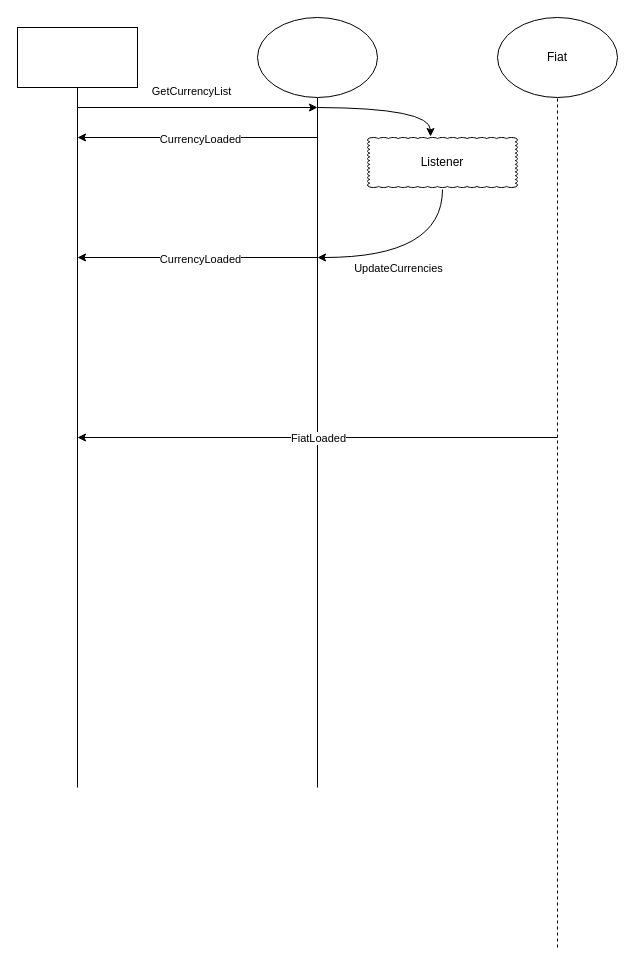
This 635x966 diagram has some shape labels left out. Here are the shapes that lost their labels. From the top down, the box of each, then its label:
(16, 26, 138, 88): CurrencyScreen
(256, 16, 378, 98): Currency
